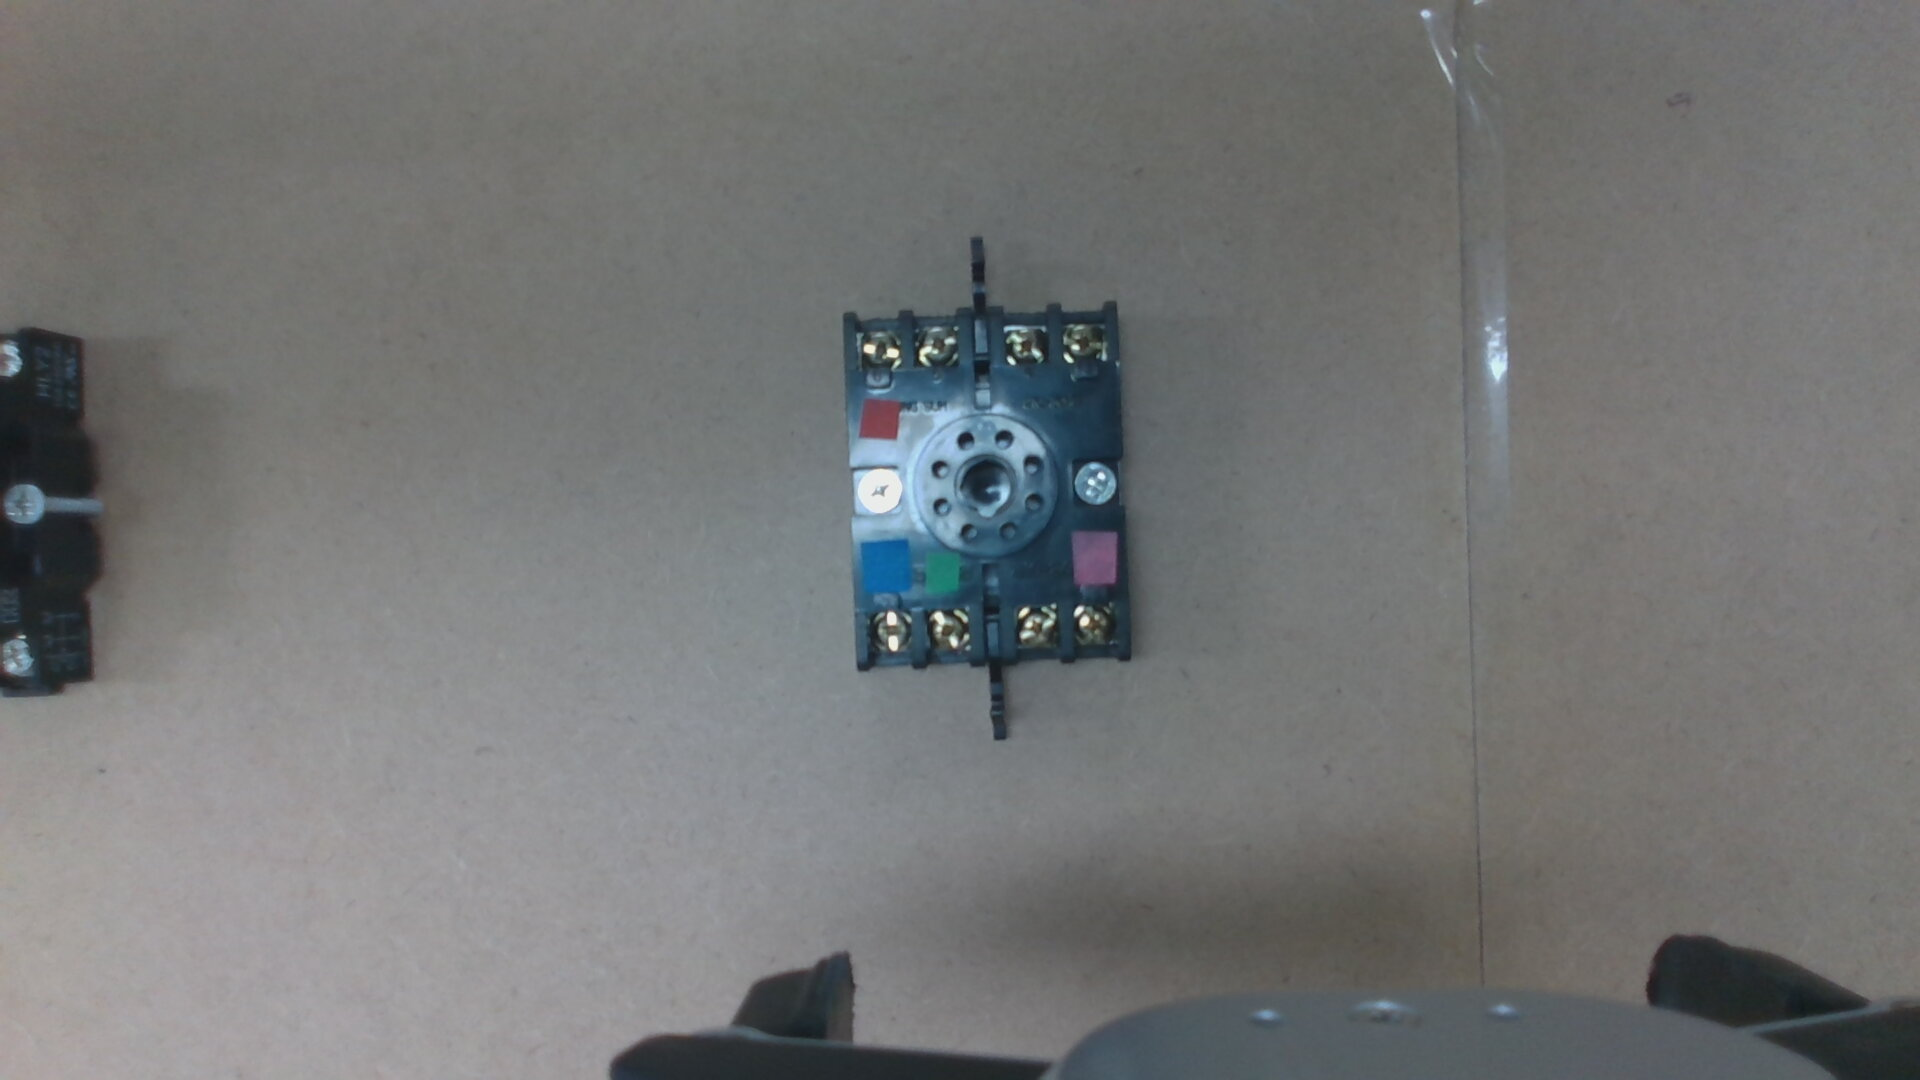timer 2: (1073, 603, 1116, 644)
timer 6: (858, 328, 899, 365)
timer 7: (872, 616, 913, 650)
timer 8: (928, 612, 971, 647)
